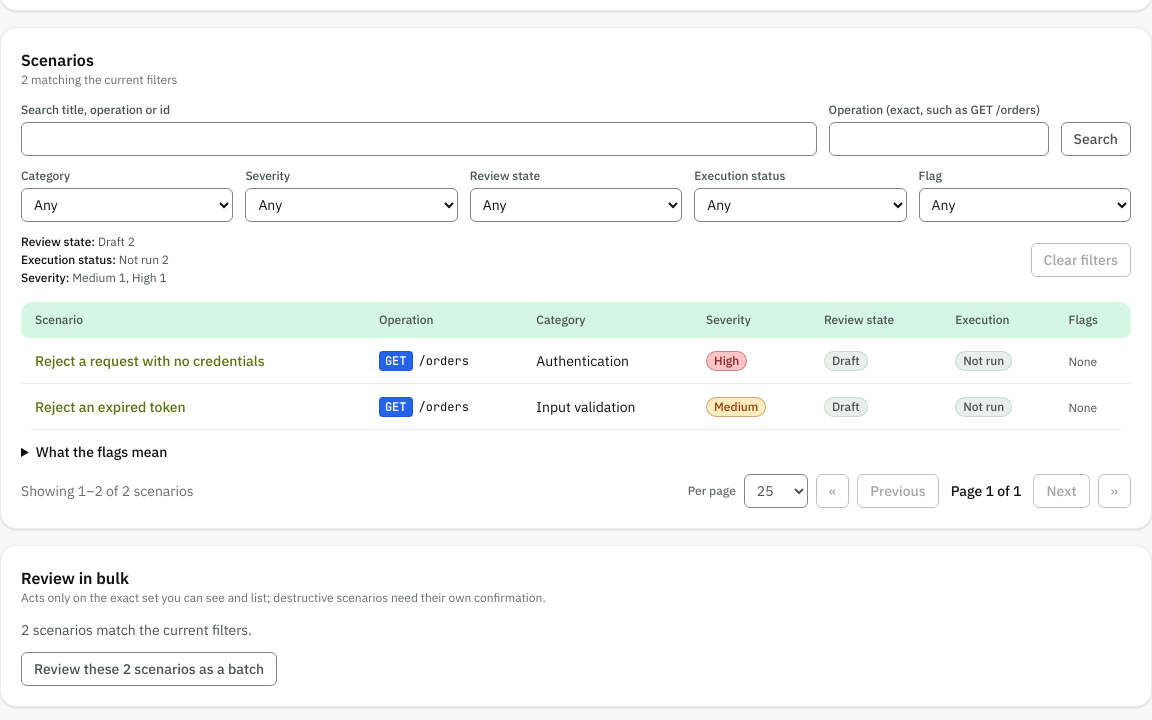
it: ScenariosArea (T079, FR-004, FR-018 to FR-033) › shows a scenario that could not be loaded as an error with a retry
The width and height of the screenshot is (1152, 720).
(page scrolled)
Click the button "Reject a request with no credentials": (150, 360) [35,350,265,370]
(page scrolled)
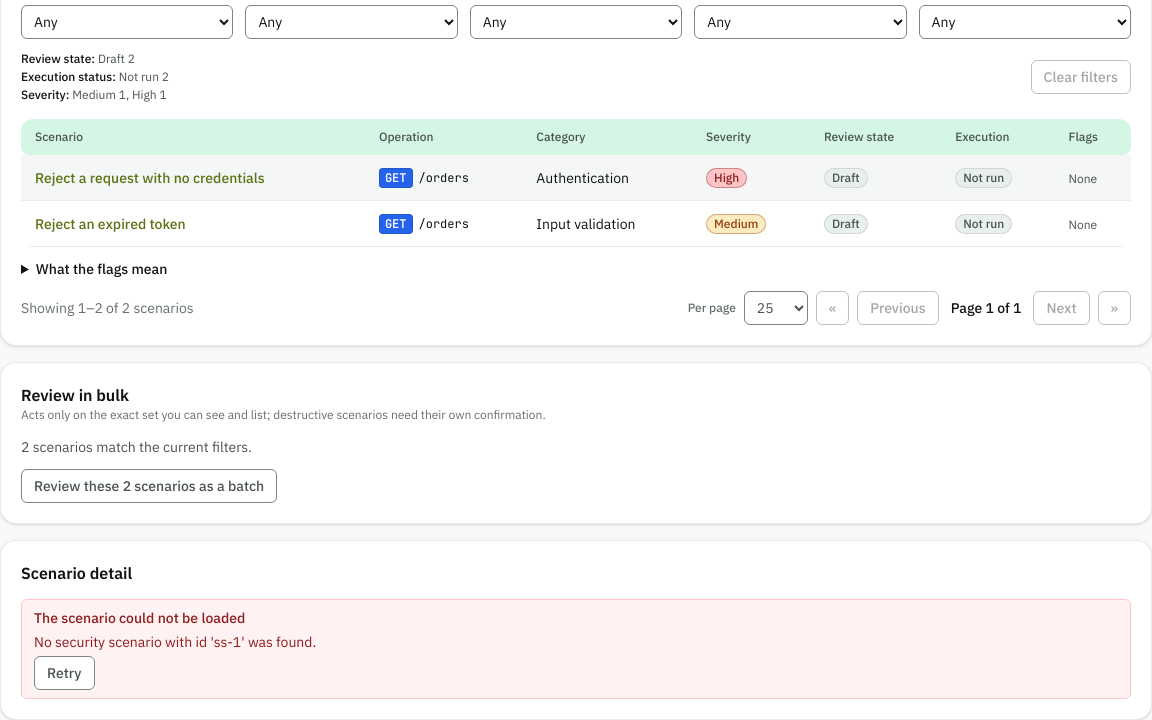
Result: the message with test id "scenario-detail-error" shows "No security scenario with id 'ss-1' was found." at [34,633,316,651]
Click the button "Retry": (64, 673) [34,656,94,690]
(page scrolled)
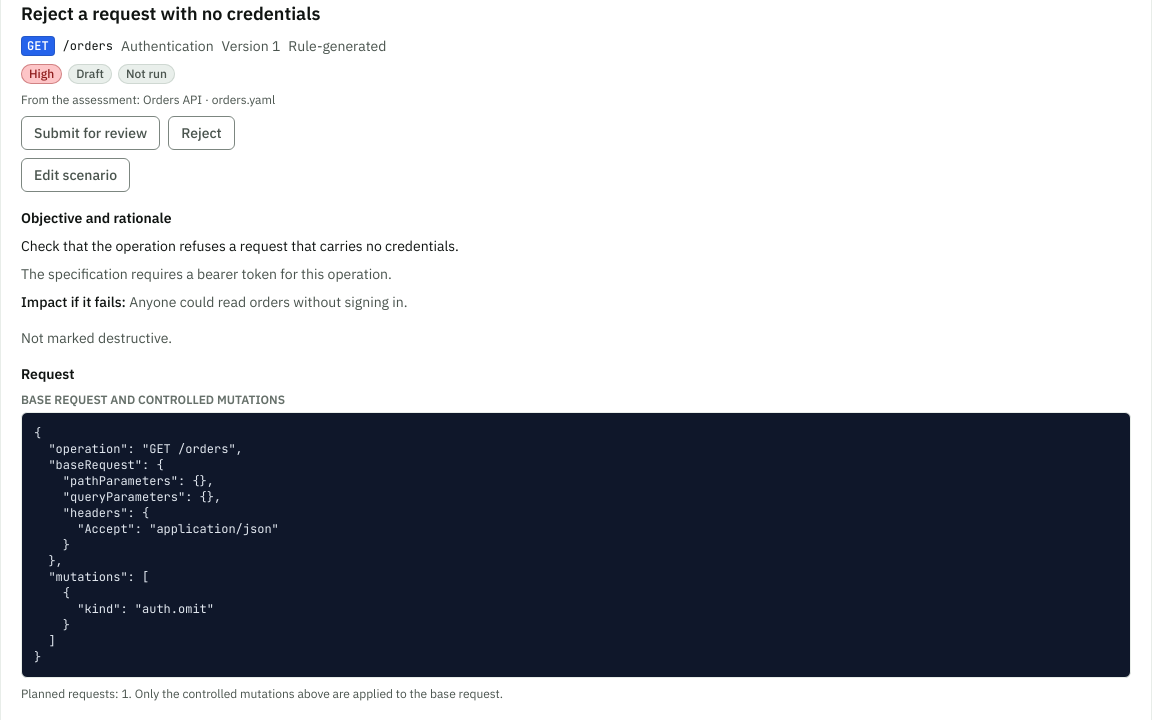
Result: the heading "Reject a request with no credentials" is shown at [21,2,320,25]
